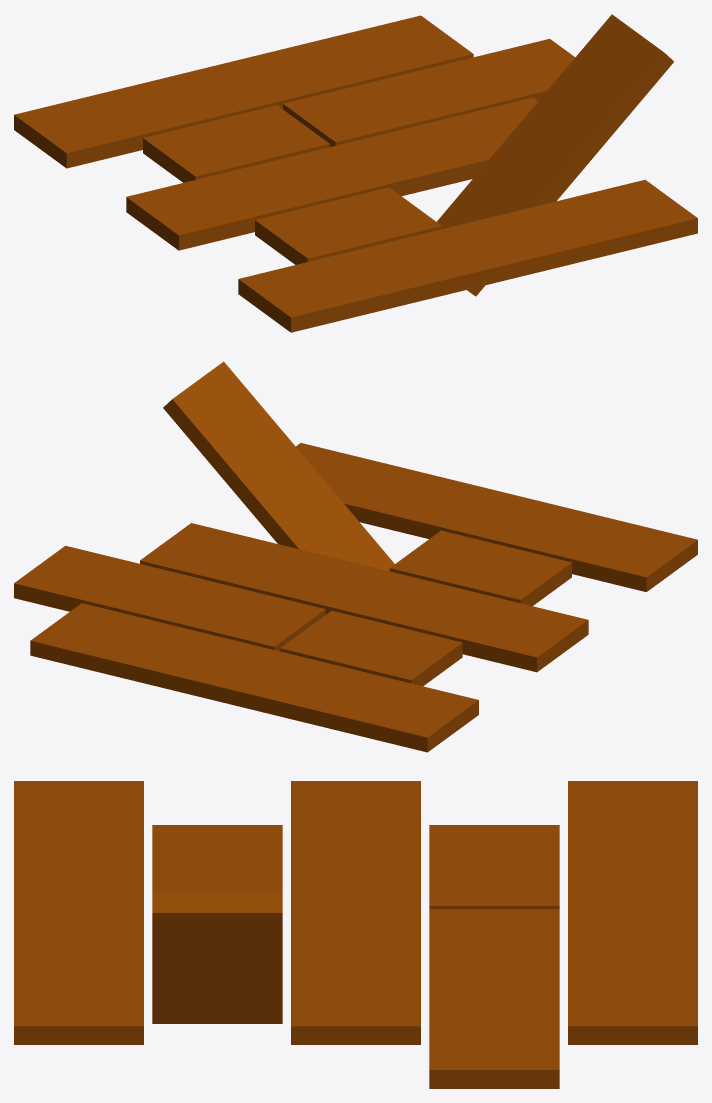
The model's file is RPG_Tiles_Square_Wooden_Boards_02.FBX.
The picture shows the model from 3 angles, top to bottom: view 1: azimuth 30°, elevation 25°; view 2: azimuth 150°, elevation 25°; view 3: azimuth 270°, elevation 25°; orthographic projection. The views are drawn at different scales.
Parts seen in each view (by area): view 1: RPG_Tiles_Square_Wooden_Boards_02; view 2: RPG_Tiles_Square_Wooden_Boards_02; view 3: RPG_Tiles_Square_Wooden_Boards_02.
Part boxes in pixels (x1,y1,x2,y2): RPG_Tiles_Square_Wooden_Boards_02: (14,14,697,332); RPG_Tiles_Square_Wooden_Boards_02: (14,361,697,752); RPG_Tiles_Square_Wooden_Boards_02: (14,781,697,1088).
Bounding box in the file's own units: 2964 × 1168 × 2964.
